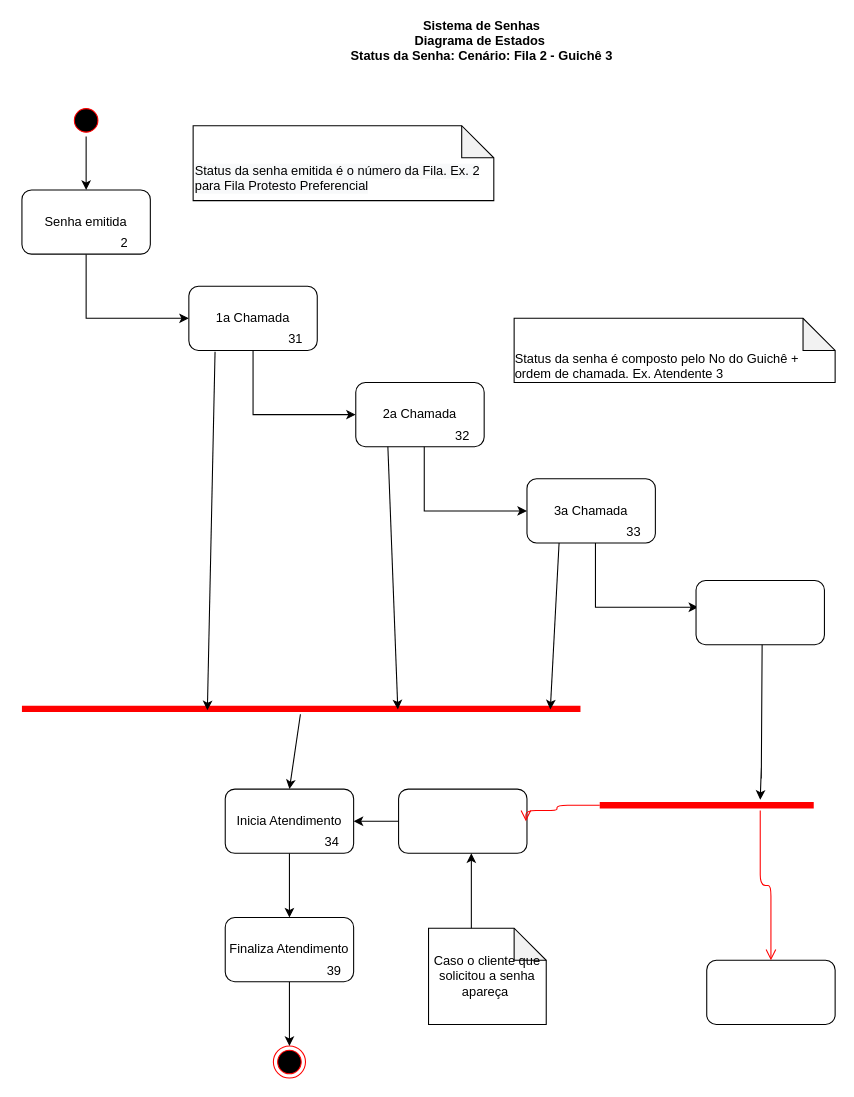
Some shapes in this 854 by 1097 pixel diagram are drawn without their labels. Here are the shapes that lost their labels. From the top down, the centre of each, then its label:
At pixel 759 612: "Guardar senha no histórico de chamada".
At pixel 462 820: "Recolocar cliente na fila".
At pixel 770 992: "Finaliza SEM atendimento".
